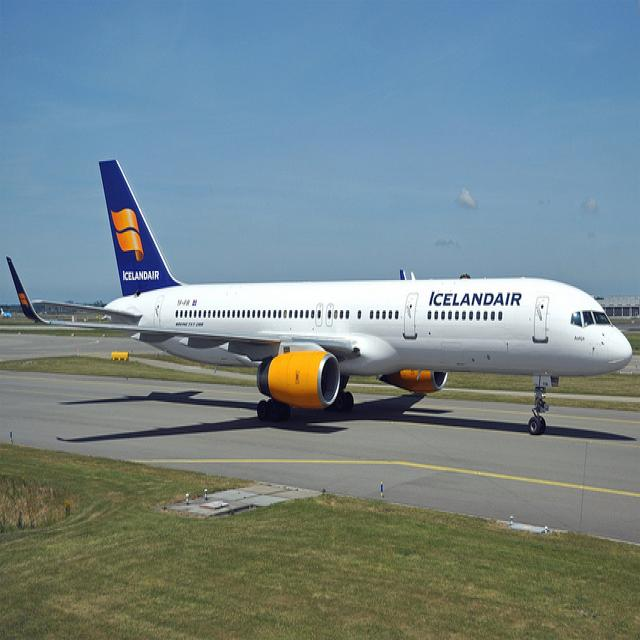airplane: (2, 156, 634, 438)
